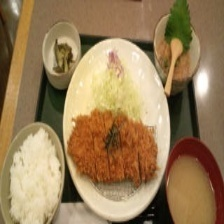rice: (8, 127, 62, 224)
